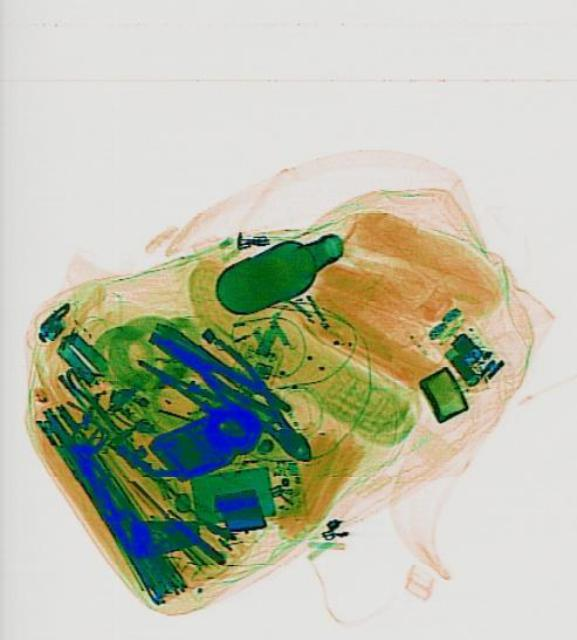Pliers: (186, 332, 327, 476), (139, 317, 290, 431)
